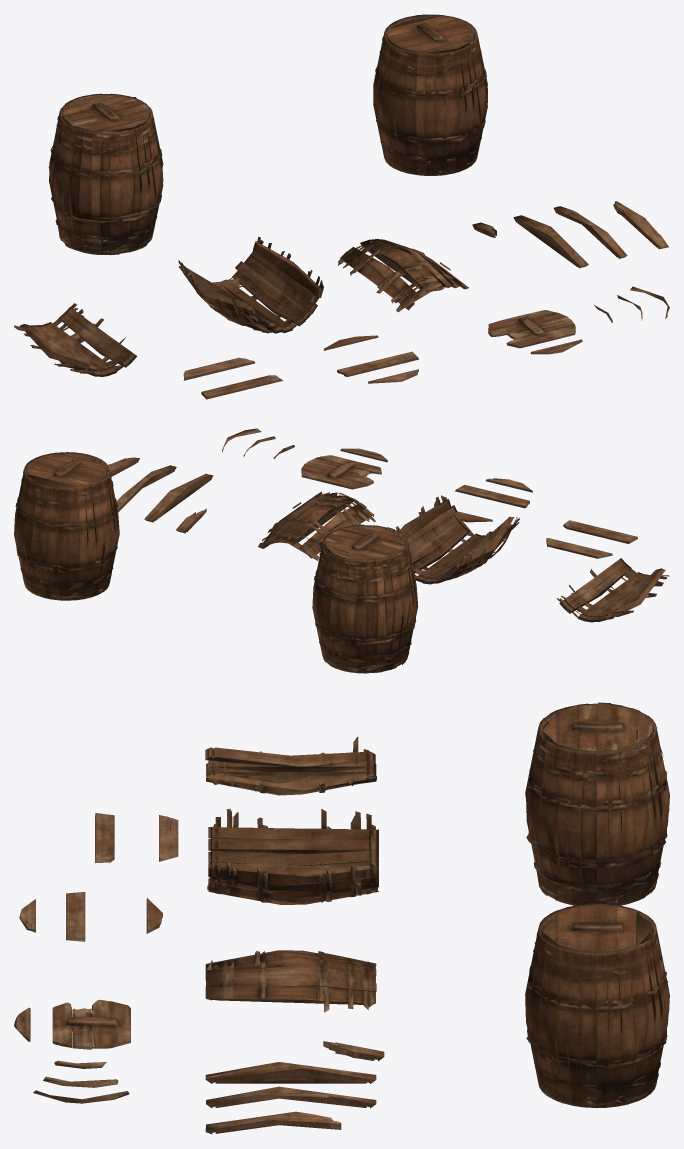
File: wooden_barrels_01.glb
3 views of the same model, one above another, from view 1: azimuth 30°, elevation 25°; view 2: azimuth 150°, elevation 25°; view 3: azimuth 270°, elevation 25° (orthographic). The views are drawn at different scales.
Visible parts, largest first — view 1: wooden_barrels_01_barrel01, wooden_barrels_01_barrel02, wooden_barrels_01_piece01, wooden_barrels_01_piece03, wooden_barrels_01_piece02, wooden_barrels_01_piece08, wooden_barrels_01_piece04, wooden_barrels_01_piece05, wooden_barrels_01_piece06, wooden_barrels_01_piece11, wooden_barrels_01_piece14, wooden_barrels_01_piece13; view 2: wooden_barrels_01_barrel01, wooden_barrels_01_barrel02, wooden_barrels_01_piece01, wooden_barrels_01_piece03, wooden_barrels_01_piece02, wooden_barrels_01_piece08, wooden_barrels_01_piece04, wooden_barrels_01_piece14, wooden_barrels_01_piece05, wooden_barrels_01_piece11, wooden_barrels_01_piece13; view 3: wooden_barrels_01_barrel01, wooden_barrels_01_barrel02, wooden_barrels_01_piece01, wooden_barrels_01_piece03, wooden_barrels_01_piece02, wooden_barrels_01_piece08, wooden_barrels_01_piece04, wooden_barrels_01_piece05, wooden_barrels_01_piece06, wooden_barrels_01_piece11, wooden_barrels_01_piece14, wooden_barrels_01_piece13 (+1 smaller).
Part boxes in pixels (box(x1,y1,x2,y2)): wooden_barrels_01_barrel01: box(373, 14, 487, 175); wooden_barrels_01_barrel02: box(48, 93, 163, 255); wooden_barrels_01_piece01: box(178, 236, 323, 333); wooden_barrels_01_piece03: box(338, 239, 468, 312); wooden_barrels_01_piece02: box(14, 303, 137, 376); wooden_barrels_01_piece08: box(488, 310, 575, 348); wooden_barrels_01_piece04: box(513, 215, 588, 268); wooden_barrels_01_piece05: box(553, 206, 627, 258); wooden_barrels_01_piece06: box(613, 201, 668, 249); wooden_barrels_01_piece11: box(337, 351, 418, 376); wooden_barrels_01_piece14: box(201, 375, 282, 399); wooden_barrels_01_piece13: box(183, 357, 254, 380); wooden_barrels_01_barrel01: box(14, 452, 119, 600); wooden_barrels_01_barrel02: box(312, 524, 418, 673); wooden_barrels_01_piece01: box(395, 495, 519, 584); wooden_barrels_01_piece03: box(258, 491, 375, 560); wooden_barrels_01_piece02: box(556, 558, 669, 622); wooden_barrels_01_piece08: box(301, 455, 381, 489); wooden_barrels_01_piece04: box(144, 473, 213, 522); wooden_barrels_01_piece14: box(563, 520, 637, 543); wooden_barrels_01_piece05: box(116, 465, 176, 512); wooden_barrels_01_piece11: box(455, 485, 529, 508); wooden_barrels_01_piece13: box(546, 538, 612, 558); wooden_barrels_01_barrel01: box(525, 903, 669, 1107); wooden_barrels_01_barrel02: box(525, 702, 669, 905); wooden_barrels_01_piece01: box(207, 808, 378, 904); wooden_barrels_01_piece03: box(205, 950, 376, 1012); wooden_barrels_01_piece02: box(205, 736, 376, 795); wooden_barrels_01_piece08: box(52, 999, 130, 1049); wooden_barrels_01_piece04: box(205, 1062, 376, 1083); wooden_barrels_01_piece05: box(206, 1086, 376, 1108); wooden_barrels_01_piece06: box(205, 1111, 341, 1134); wooden_barrels_01_piece11: box(66, 892, 85, 941); wooden_barrels_01_piece14: box(95, 813, 114, 862); wooden_barrels_01_piece13: box(159, 815, 178, 861).
Size of the model in its own units: 4.44 by 0.9322 by 3.34.
3 materials, 3 textured.
